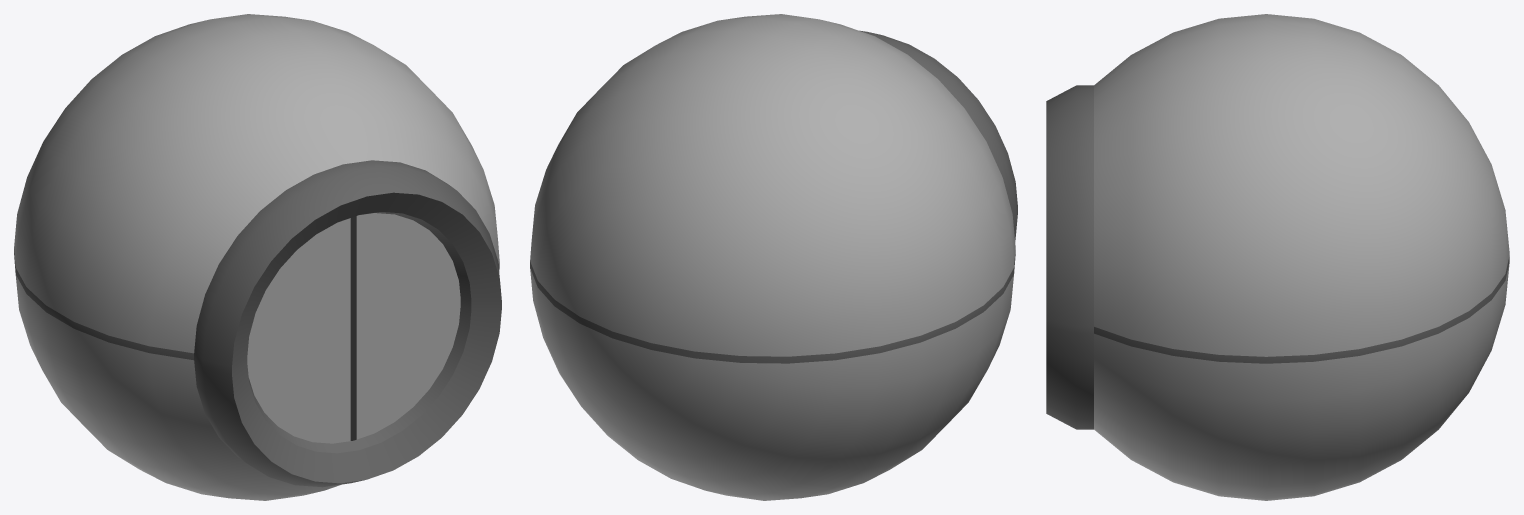
File: House_Single.gltf
3 renders of one model, left to right at view 1: azimuth 30°, elevation 25°; view 2: azimuth 150°, elevation 25°; view 3: azimuth 270°, elevation 25°, orthographic.
Parts seen in each view (by area): view 1: House_Single; view 2: House_Single; view 3: House_Single.
Part boxes in pixels (x1=…): House_Single: x1=14, y1=14, x2=501, y2=500; House_Single: x1=530, y1=14, x2=1017, y2=500; House_Single: x1=1046, y1=14, x2=1509, y2=500.
Size of the model in its own units: 3.99 by 4 by 3.8.
Materials: 1 (1 with a texture image).
